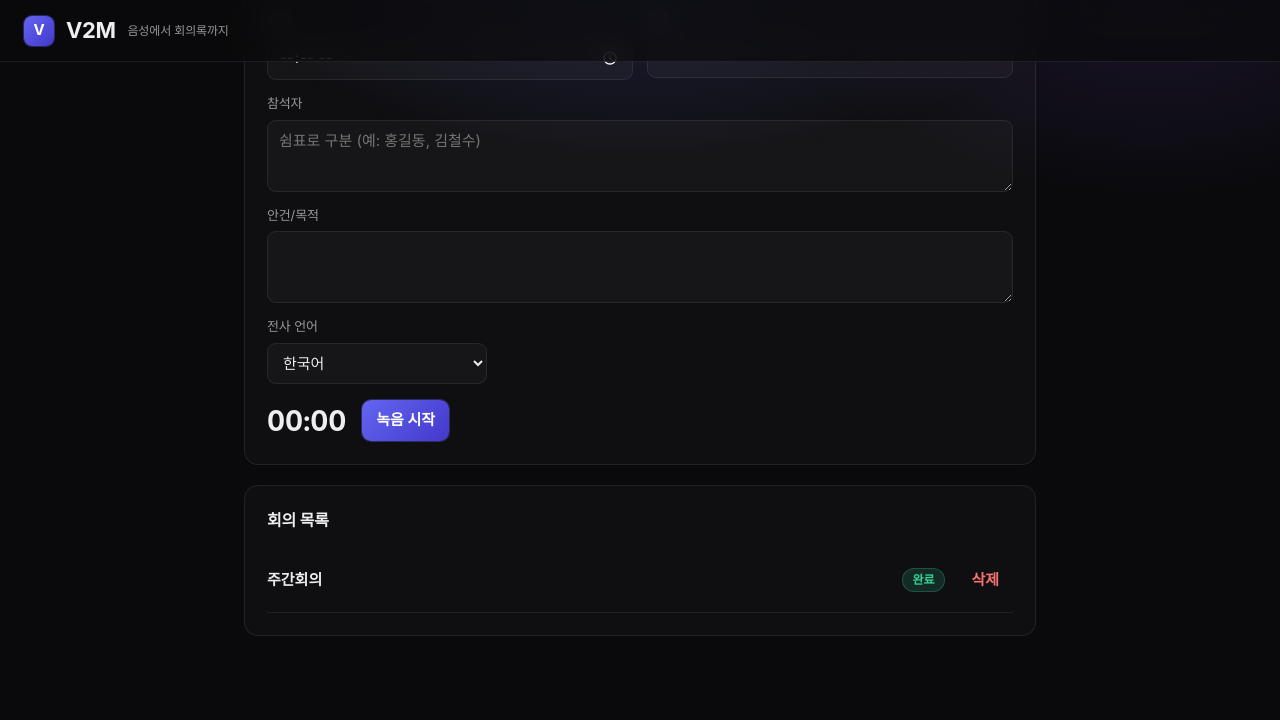
it: App › shows home (new-meeting + list), then opens detail on select
(page scrolled)
Expected: the heading "V2M" is shown, x1=66 y1=14 x2=116 y2=47
Expected: the button "녹음 시작" is shown, x1=362 y1=400 x2=449 y2=441
Click the button "주간회의": [295, 579] box x1=263 y1=560 x2=894 y2=599
(page scrolled)
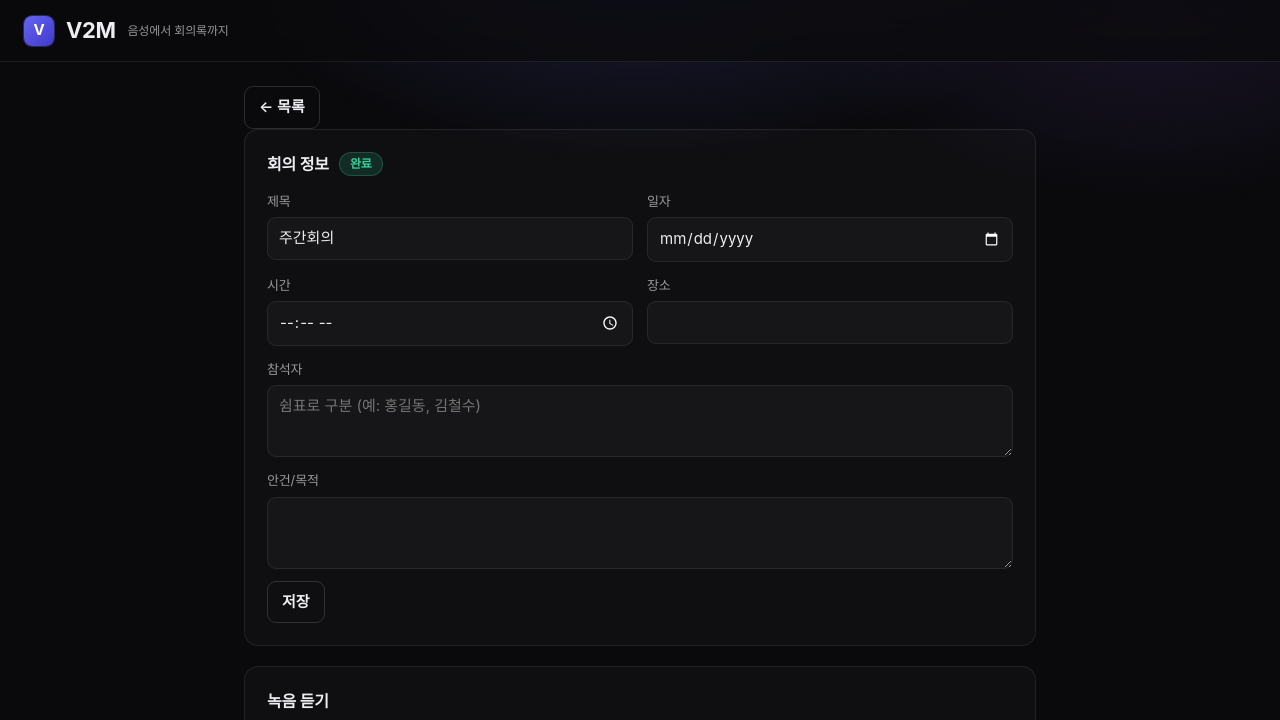
Expected: the button "← 목록" is shown, x1=244 y1=86 x2=320 y2=128
